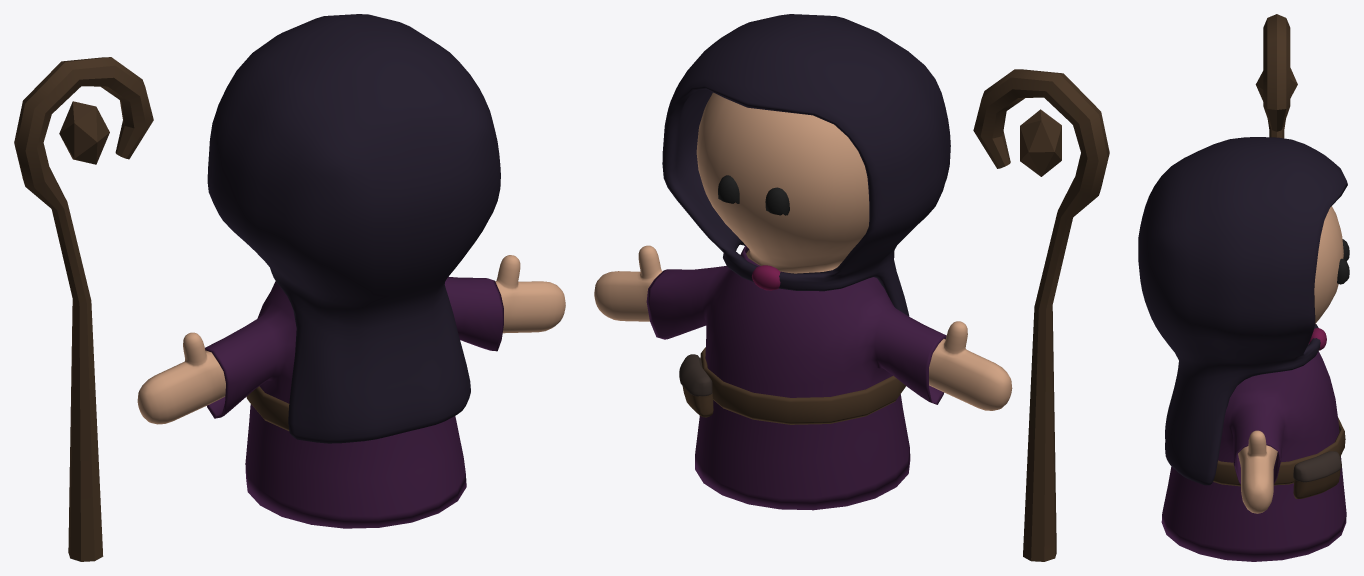
Rendered from Happy_Player.fbx.
3 renders of one model, left to right at view 1: azimuth 30°, elevation 25°; view 2: azimuth 150°, elevation 25°; view 3: azimuth 270°, elevation 25°, orthographic. The views are drawn at different scales.
Parts seen in each view (by area): view 1: Character_model:Cloak, Character_model:Dress, Character_model:Staff, Character_model:Base_Character, Character_model:Belt; view 2: Character_model:Dress, Character_model:Cloak, Character_model:Base_Character, Character_model:Staff, Character_model:Belt, Character_model:Pouch; view 3: Character_model:Cloak, Character_model:Dress, Character_model:Base_Character, Character_model:Staff, Character_model:Pouch, Character_model:Belt.
Boxes of the visible parts, x1=… form: Character_model:Cloak: x1=207, y1=14, x2=500, y2=443; Character_model:Dress: x1=205, y1=276, x2=503, y2=528; Character_model:Staff: x1=14, y1=57, x2=153, y2=561; Character_model:Base_Character: x1=137, y1=255, x2=565, y2=424; Character_model:Belt: x1=246, y1=386, x2=289, y2=430; Character_model:Dress: x1=646, y1=245, x2=946, y2=510; Character_model:Cloak: x1=662, y1=14, x2=950, y2=316; Character_model:Base_Character: x1=594, y1=92, x2=1012, y2=410; Character_model:Staff: x1=973, y1=69, x2=1109, y2=561; Character_model:Belt: x1=700, y1=347, x2=905, y2=424; Character_model:Pouch: x1=679, y1=354, x2=713, y2=417; Character_model:Cloak: x1=1138, y1=137, x2=1347, y2=485; Character_model:Dress: x1=1161, y1=343, x2=1346, y2=561; Character_model:Base_Character: x1=1238, y1=206, x2=1343, y2=513; Character_model:Staff: x1=1255, y1=14, x2=1297, y2=138; Character_model:Pouch: x1=1293, y1=451, x2=1341, y2=498; Character_model:Belt: x1=1213, y1=417, x2=1345, y2=486.
Bounding box in the file's own units: 115 × 102 × 47.36.
